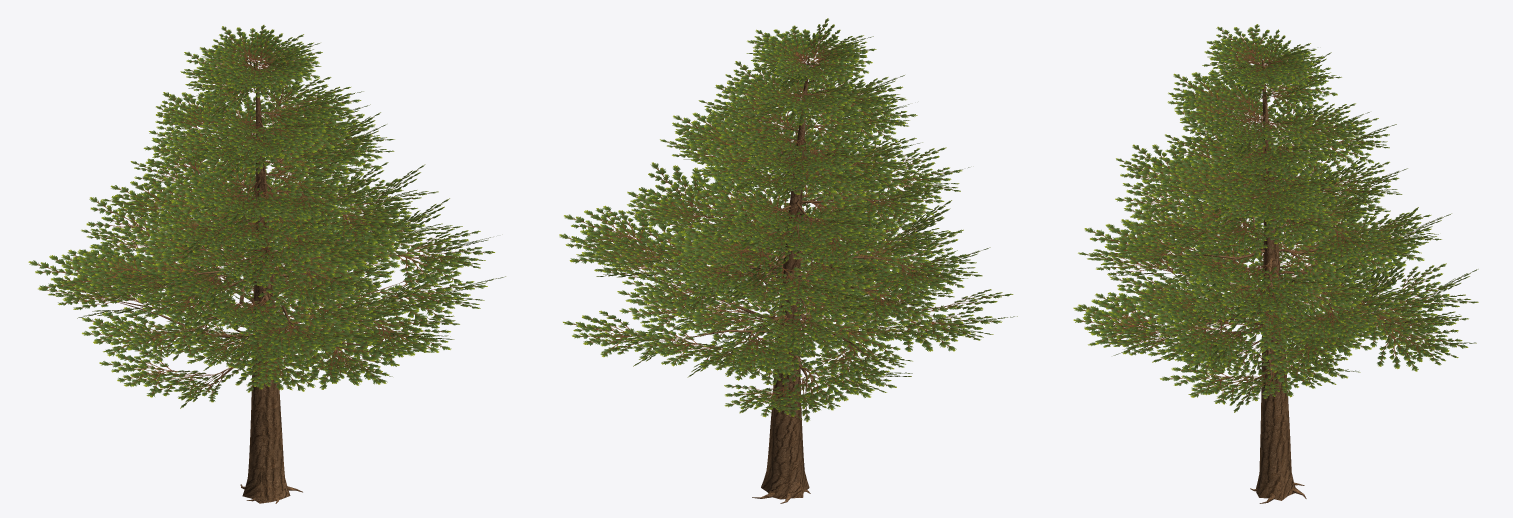
Rendered from corealm_pine_5.glb.
3 views of the same model, side by side, from view 1: azimuth 30°, elevation 25°; view 2: azimuth 150°, elevation 25°; view 3: azimuth 270°, elevation 25° (orthographic). The views are drawn at different scales.
Visible parts, largest first — view 1: corealm_pine_5; view 2: corealm_pine_5; view 3: corealm_pine_5.
Part boxes in pixels (<box>): corealm_pine_5: <box>28,25,505,503</box>; corealm_pine_5: <box>559,18,1017,503</box>; corealm_pine_5: <box>1073,24,1478,503</box>.
Size of the model in its own units: 6.4 by 6.77 by 6.04.
Materials: 2 (2 with a texture image).
